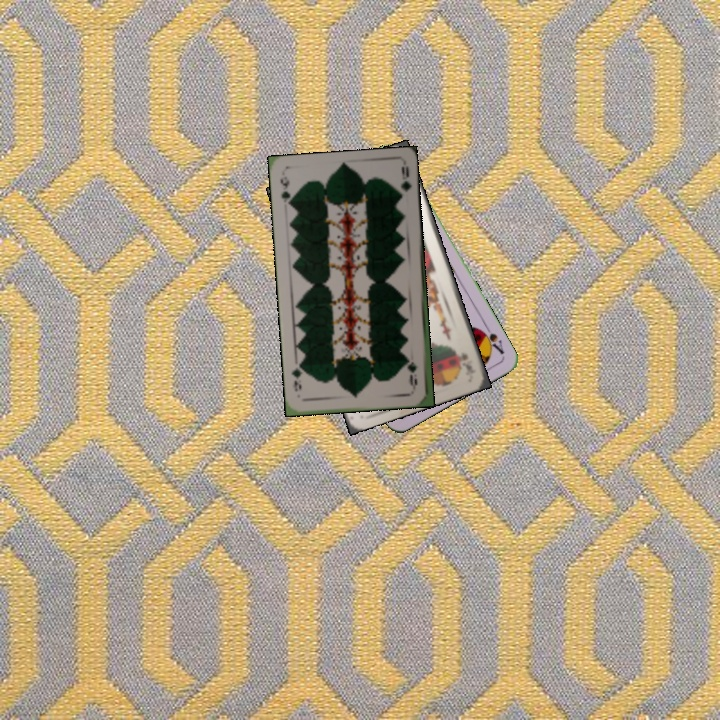G9: (276, 172, 294, 210), (407, 357, 420, 391)
SA: (476, 321, 507, 357)
SK: (455, 348, 474, 372)
